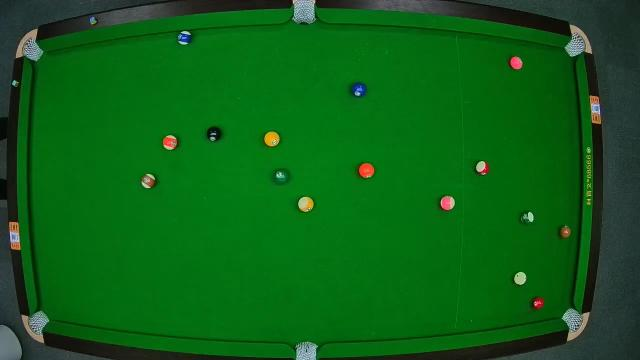bag1: (22, 39, 42, 61)
bag2: (292, 0, 318, 24)
bag3: (564, 33, 588, 55)
bag4: (27, 310, 48, 334)
bag5: (293, 340, 319, 360)
bag6: (562, 308, 582, 330)
ball0: (513, 270, 527, 286)
ball1: (264, 131, 280, 147)
ball10: (176, 30, 192, 46)
ball11: (476, 159, 492, 177)
ball12: (440, 195, 456, 211)
ball13: (162, 134, 178, 151)
ball14: (519, 209, 535, 225)
ball15: (140, 173, 156, 189)
ball2: (350, 82, 366, 96)
ball3: (531, 296, 545, 310)
ball4: (508, 55, 524, 70)
ball5: (358, 164, 376, 180)
ball6: (274, 168, 290, 184)
ball7: (558, 224, 572, 239)
ball8: (206, 128, 222, 142)
ball9: (298, 195, 314, 213)
